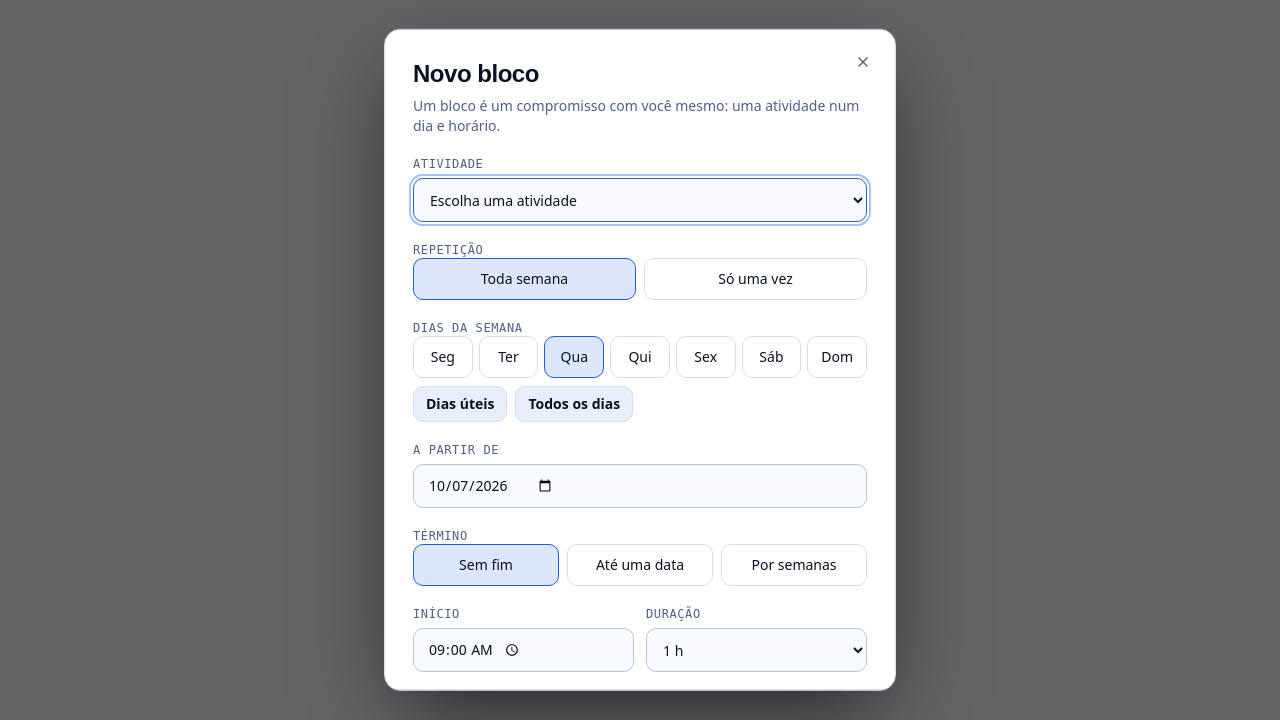
it: BlockFormDialog › a data de início acompanha o dia da semana escolhido
expect the dropdown labelled "Atividade" is shown: met, box [413,178,867,222]
Click the checkbox named "Segunda-feira". click: point(443, 357)
box: [413,336,473,378]
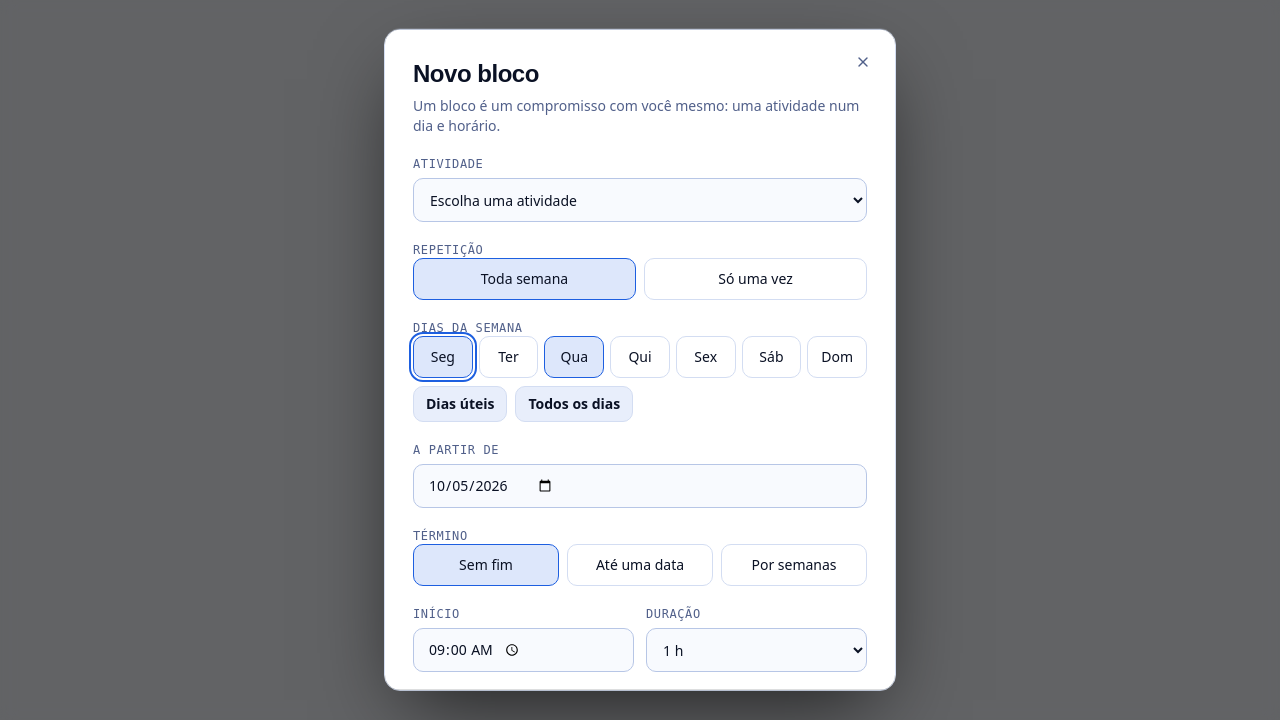
Click the checkbox named "Quarta-feira". click: point(574, 357)
box: [544,336,604,378]
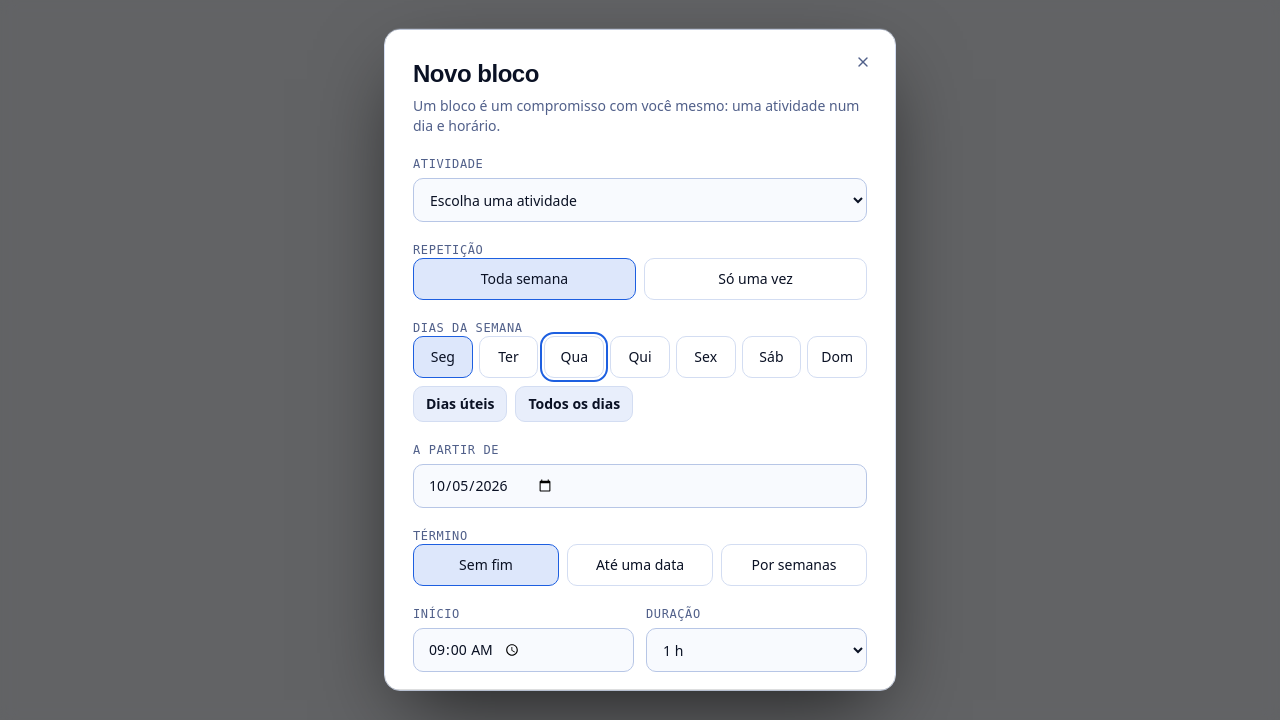
expect the date field labelled "A partir de" holds "2026-10-05": met, box [413,464,867,508]
Click the checkbox named "Domingo". click: point(837, 357)
box: [807,336,867,378]
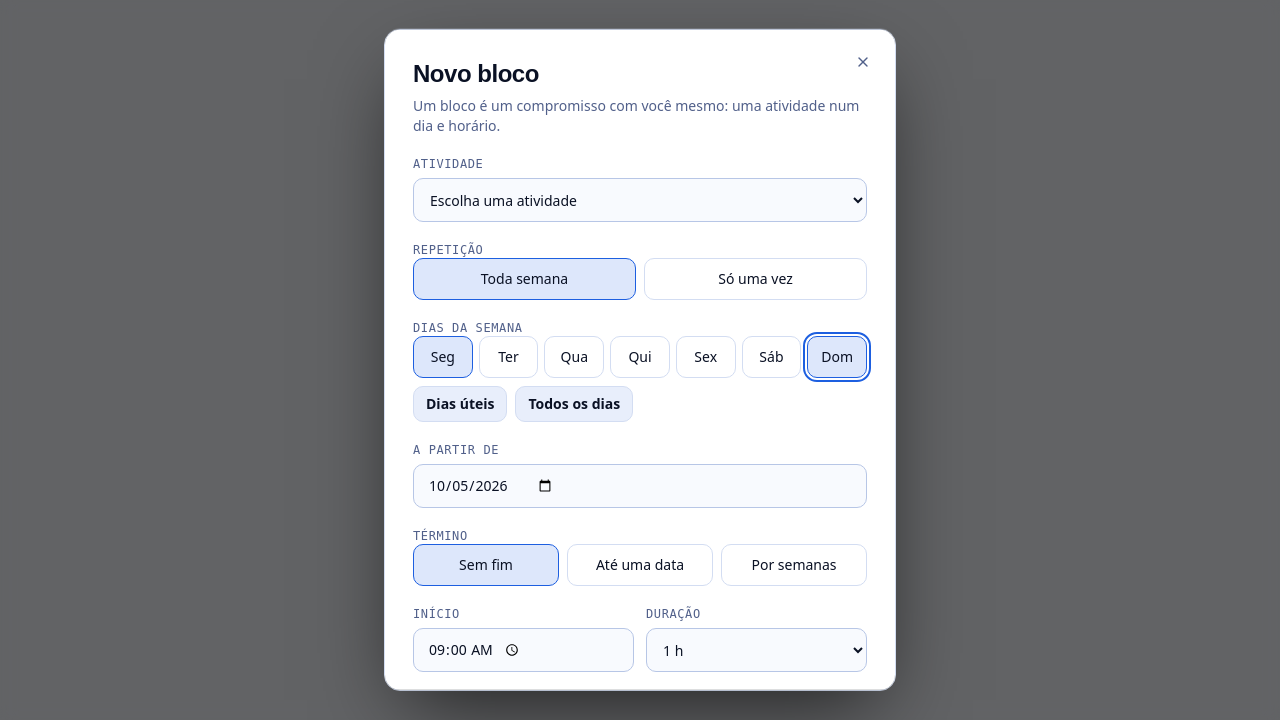
Click the checkbox named "Segunda-feira". click: point(443, 357)
box: [413,336,473,378]
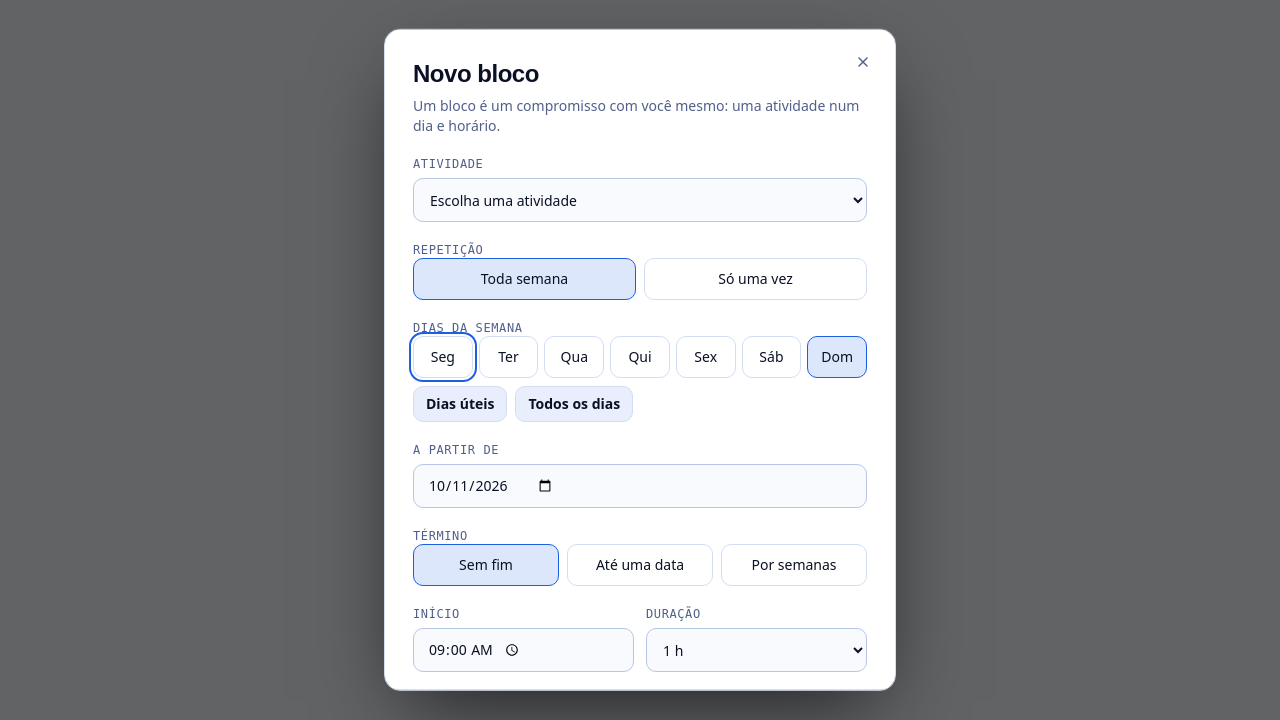
expect the date field labelled "A partir de" holds "2026-10-11": met, box [413,464,867,508]
